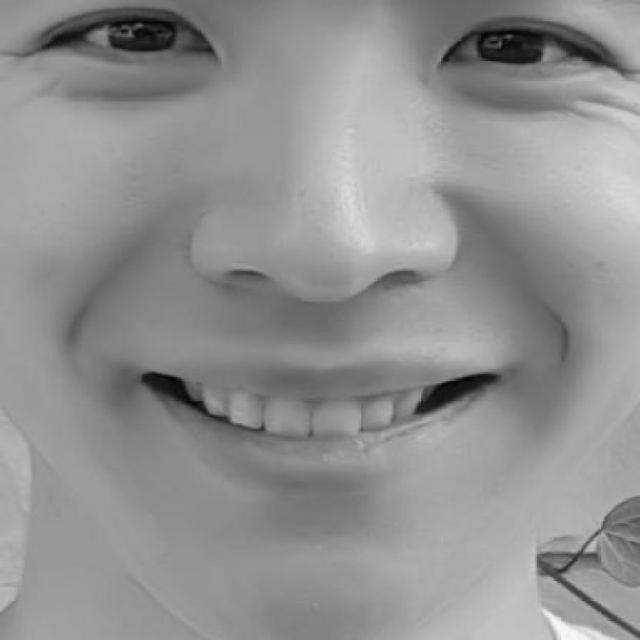happy: (3, 0, 635, 517)
